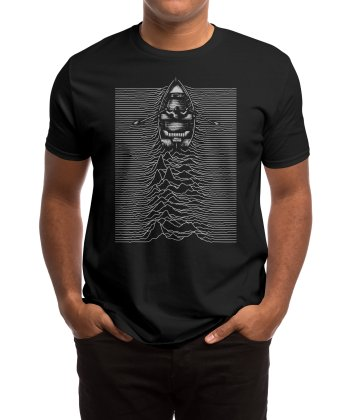design: (108, 73, 241, 246)
